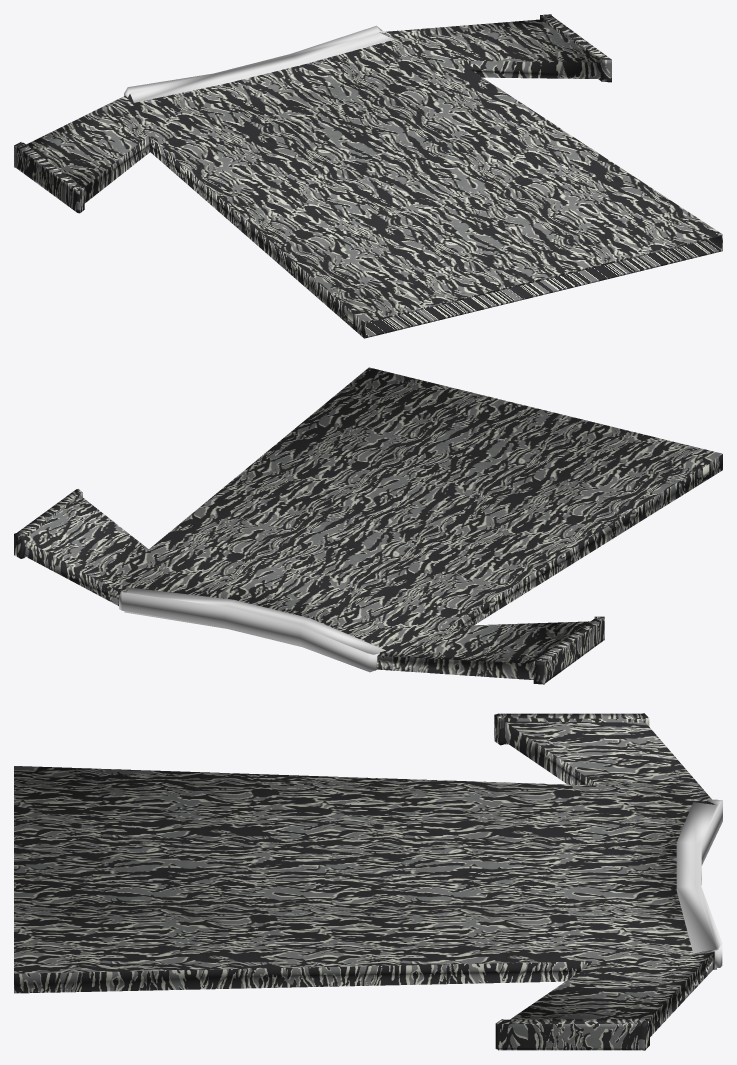
Rendered from shirt5.fbx.
3 renders of one model, top to bottom at view 1: azimuth 30°, elevation 25°; view 2: azimuth 150°, elevation 25°; view 3: azimuth 270°, elevation 25°, orthographic. The views are drawn at different scales.
Parts seen in each view (by area): view 1: shirt5; view 2: shirt5; view 3: shirt5.
Part boxes in pixels (left/top/right/bottom): shirt5: left=14, top=14, right=722, bottom=338; shirt5: left=14, top=367, right=722, bottom=684; shirt5: left=14, top=713, right=722, bottom=1050.
Bounding box in the file's own units: 0.678 × 0.0286 × 0.6519.
2 materials, 1 textured.
